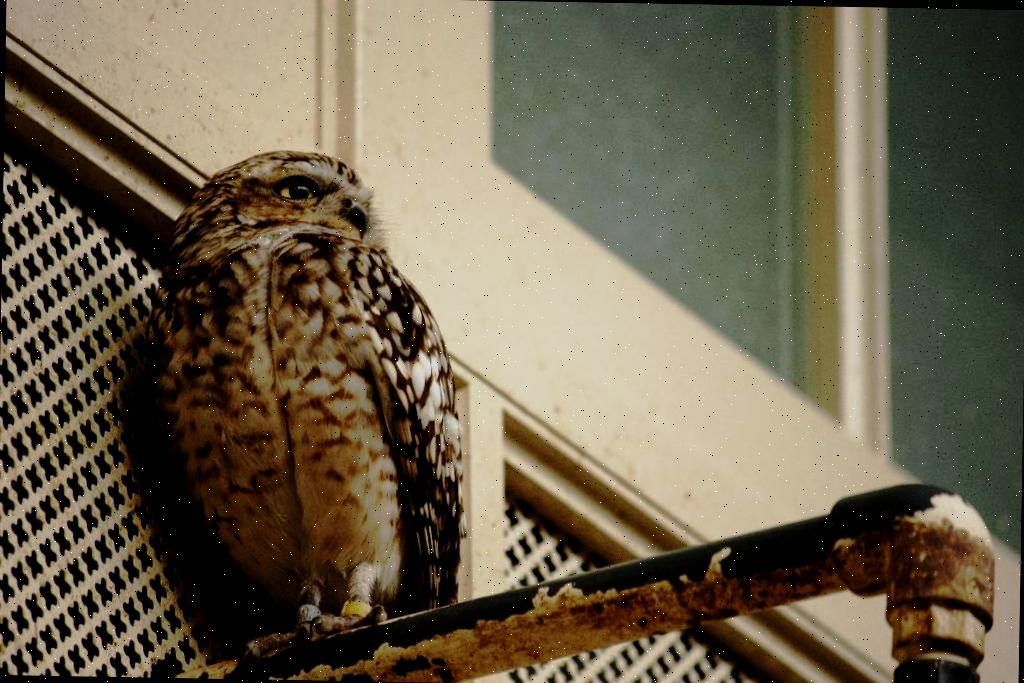Owl: (136, 150, 472, 676)
